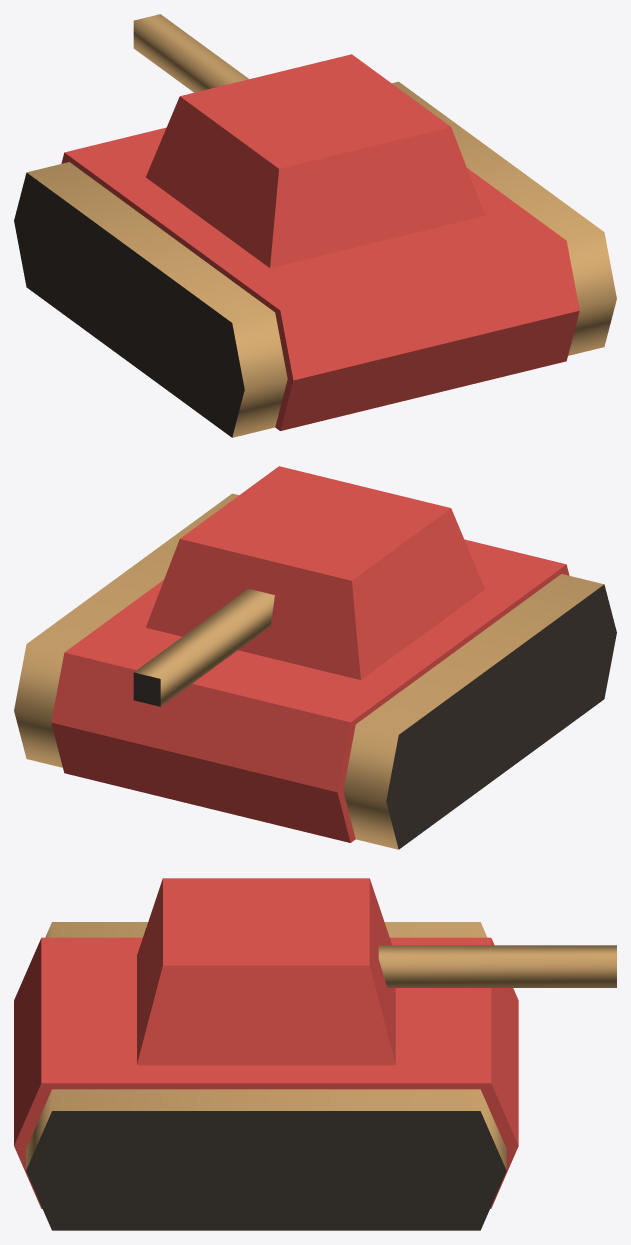
Rendered from EnemyTank.glb.
3 views of the same model, one above another, from view 1: azimuth 30°, elevation 25°; view 2: azimuth 150°, elevation 25°; view 3: azimuth 270°, elevation 25° (orthographic). The views are drawn at different scales.
Parts seen in each view (by area): view 1: Body, Tracks, Head, Barrel.001; view 2: Body, Tracks, Head, Barrel.001; view 3: Tracks, Head, Body, Barrel.001.
Part boxes in pixels (<box>): Body: <box>61,127,579,430</box>; Tracks: <box>14,81,616,437</box>; Head: <box>146,54,484,268</box>; Barrel.001: <box>133,14,248,92</box>; Body: <box>51,539,569,842</box>; Tracks: <box>14,493,616,849</box>; Head: <box>146,466,484,679</box>; Barrel.001: <box>133,588,274,706</box>; Tracks: <box>26,922,506,1230</box>; Head: <box>137,878,395,1065</box>; Body: <box>14,937,518,1208</box>; Barrel.001: <box>378,945,616,987</box>.
Size of the model in its own units: 0.3384 by 0.1786 by 0.4558.
